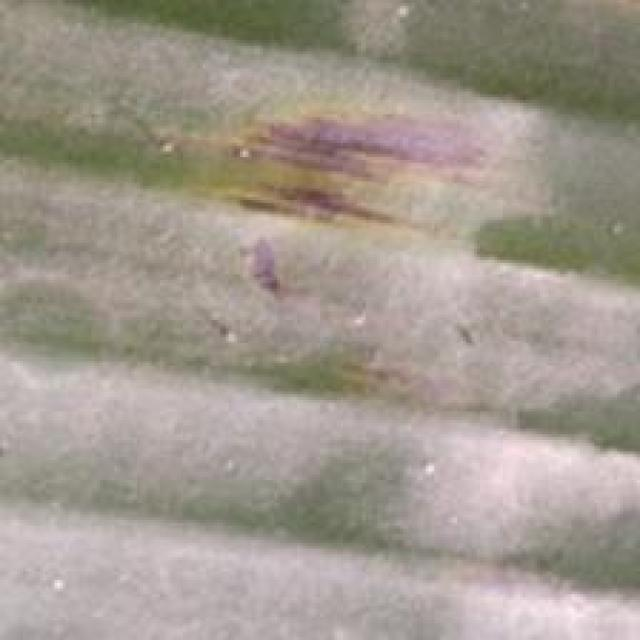Early_leaf_spot: (150, 80, 443, 321)
